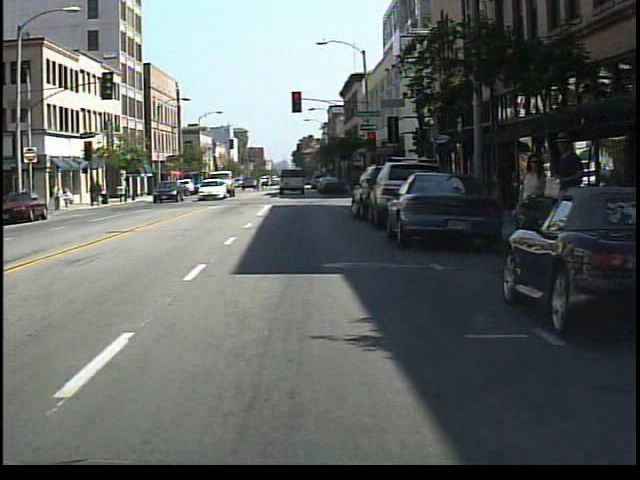person: (552, 127, 590, 275), (516, 149, 550, 274), (49, 182, 64, 215), (61, 185, 76, 210)
